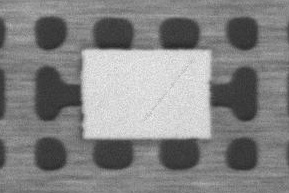DIE_CRACK: (216, 39, 289, 80)
